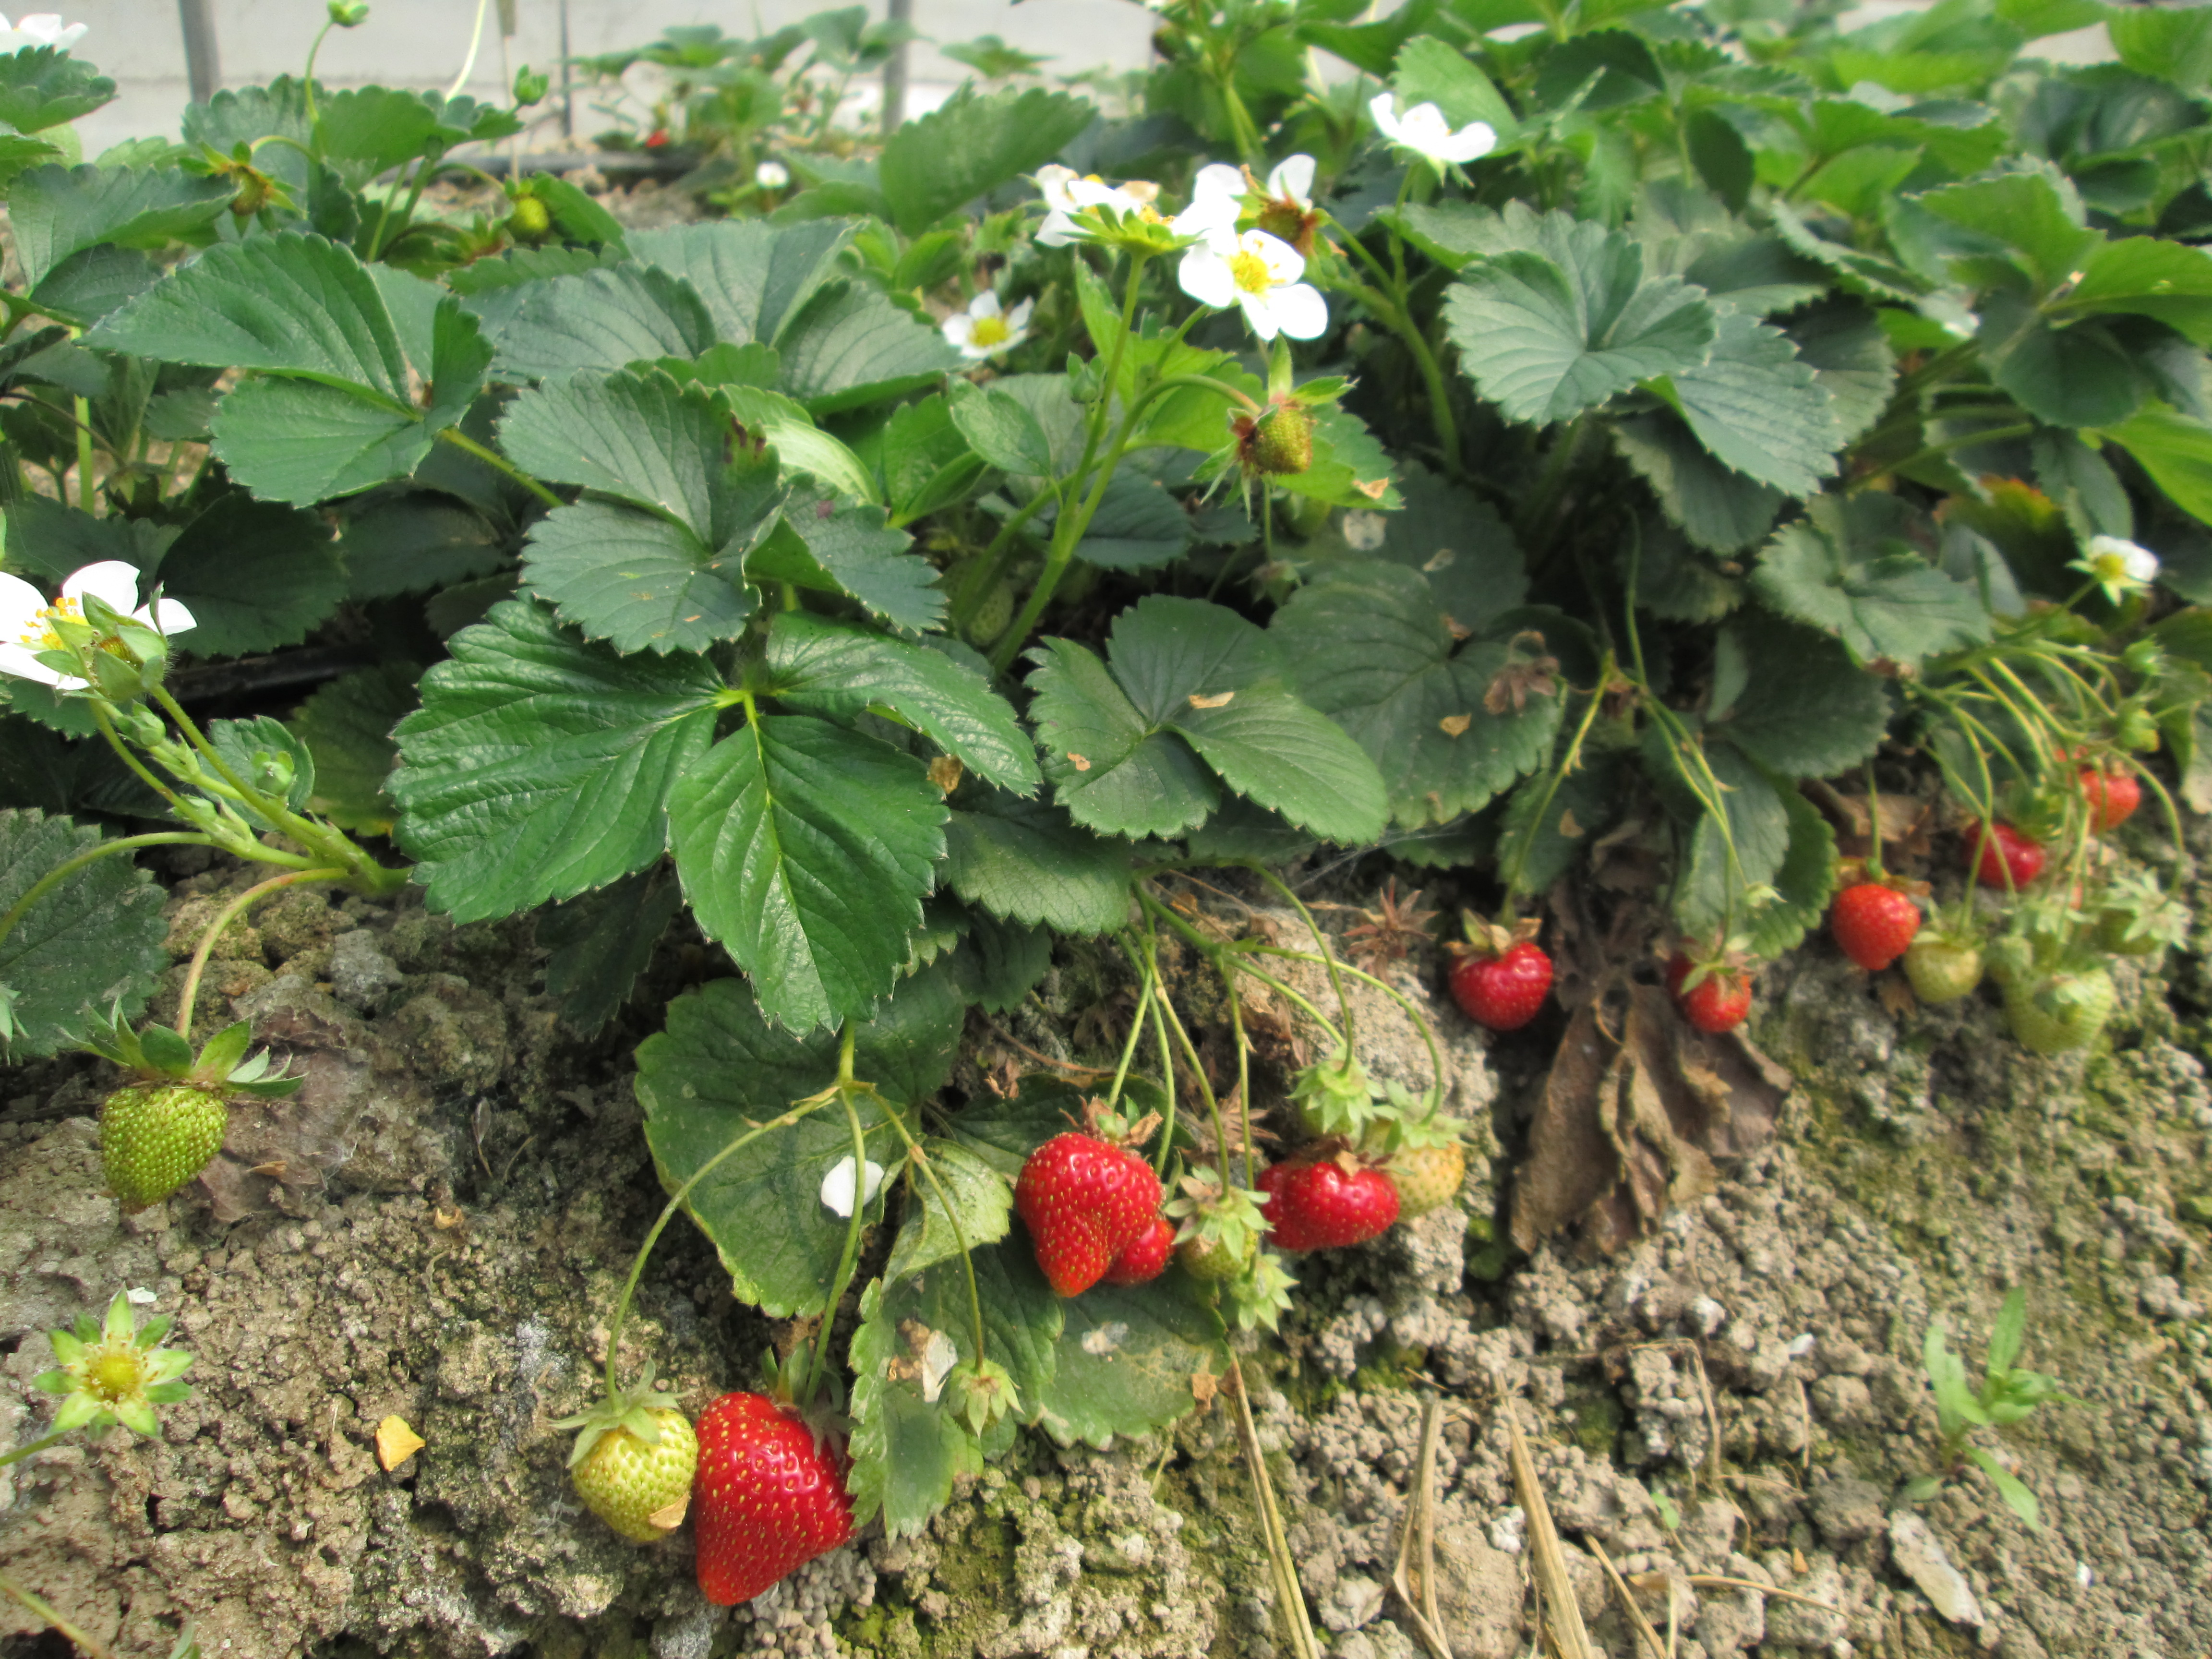StrawberryCone: (674, 1380, 864, 1600), (1010, 1119, 1160, 1309), (1435, 917, 1564, 1044), (1827, 866, 1928, 986)
StrawberryIrremovable: (566, 1391, 698, 1539), (98, 1068, 228, 1202), (1993, 922, 2116, 1060), (1369, 1107, 1477, 1213), (1179, 1182, 1268, 1291), (1230, 397, 1334, 483), (1911, 908, 1994, 1014), (2094, 859, 2172, 955), (2071, 737, 2148, 833), (1294, 1054, 1376, 1138), (70, 1335, 152, 1410), (82, 627, 165, 701), (953, 570, 1029, 648), (491, 183, 561, 240)
StrawberryOther: (1251, 1136, 1399, 1265), (1951, 798, 2062, 889), (1672, 945, 1764, 1042), (1103, 1202, 1179, 1297)
StrawberryRemovable: (678, 1391, 862, 1600), (1015, 1124, 1160, 1307), (1258, 1138, 1397, 1263), (1440, 922, 1559, 1040), (1831, 875, 1923, 974), (1956, 802, 2059, 889), (1677, 946, 1764, 1040), (1109, 1208, 1176, 1297)
